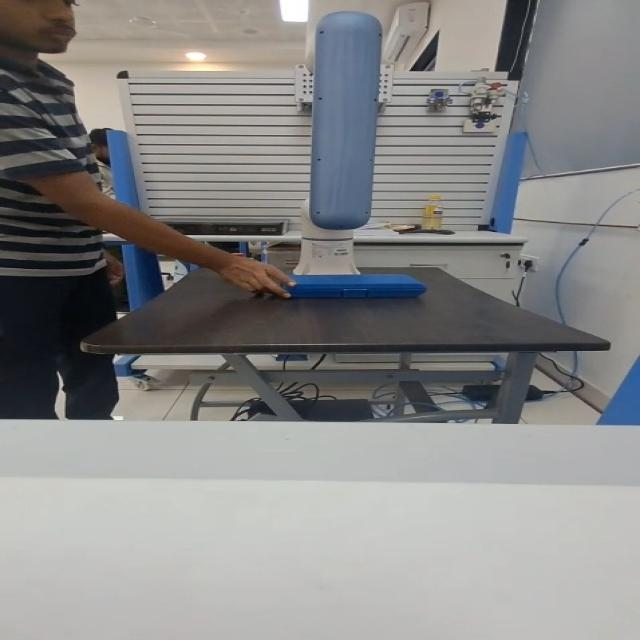top-surface: (292, 275, 415, 283)
